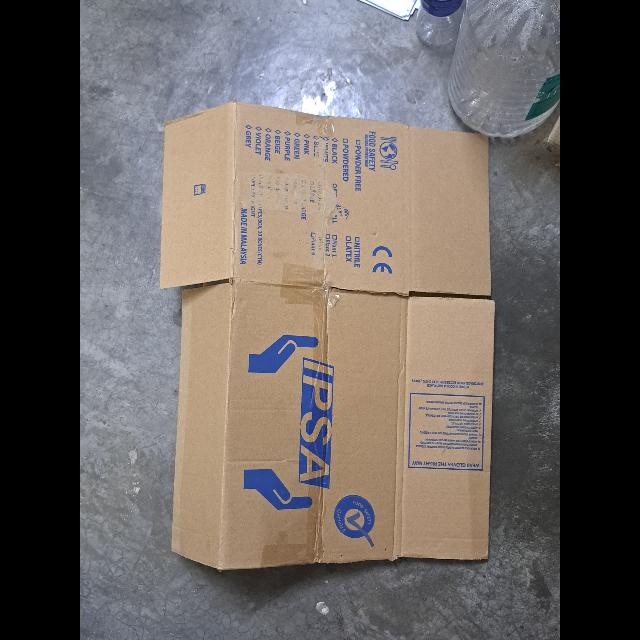garrafa plástica: (448, 1, 560, 138), (414, 0, 464, 50)
papelão: (158, 100, 494, 570)
